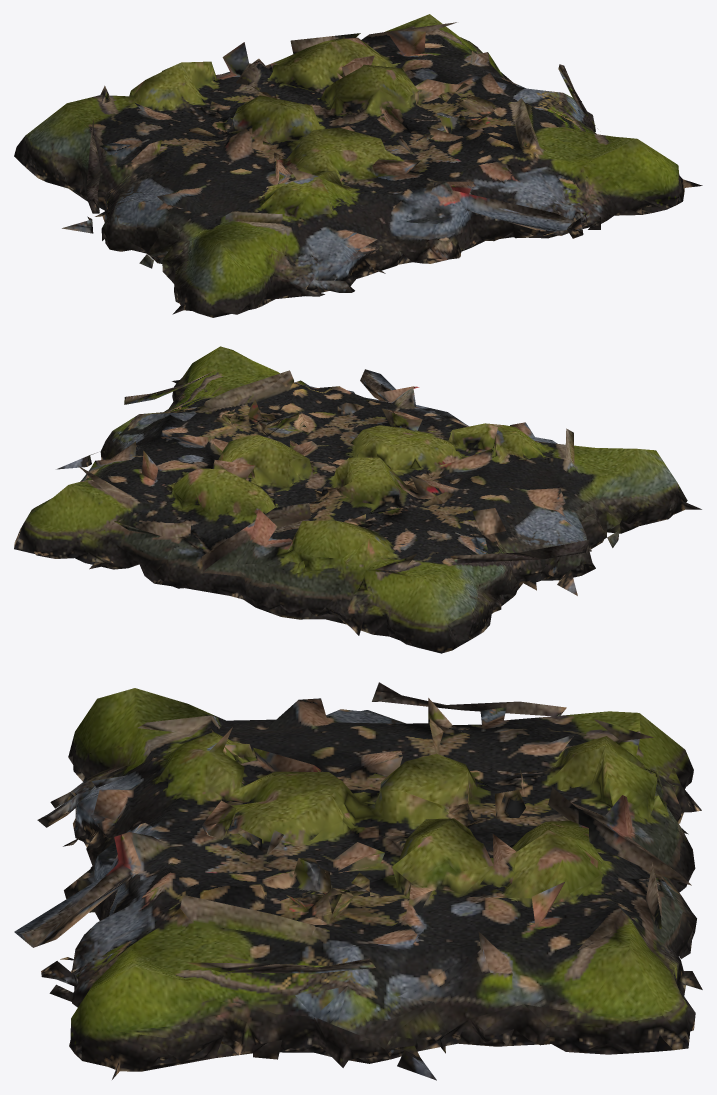
File: terrain_forest.glb
The picture shows the model from 3 angles, top to bottom: view 1: azimuth 30°, elevation 25°; view 2: azimuth 150°, elevation 25°; view 3: azimuth 270°, elevation 25°; orthographic projection. The views are drawn at different scales.
Parts seen in each view (by area): view 1: Mesh_0.001; view 2: Mesh_0.001; view 3: Mesh_0.001.
Part boxes in pixels (x1,y1,x2,y2): Mesh_0.001: (14, 14, 702, 317); Mesh_0.001: (14, 346, 701, 653); Mesh_0.001: (14, 682, 702, 1080).
Bounding box in the file's own units: 1.88 × 0.2871 × 1.53.
Materials: 1 (1 with a texture image).
